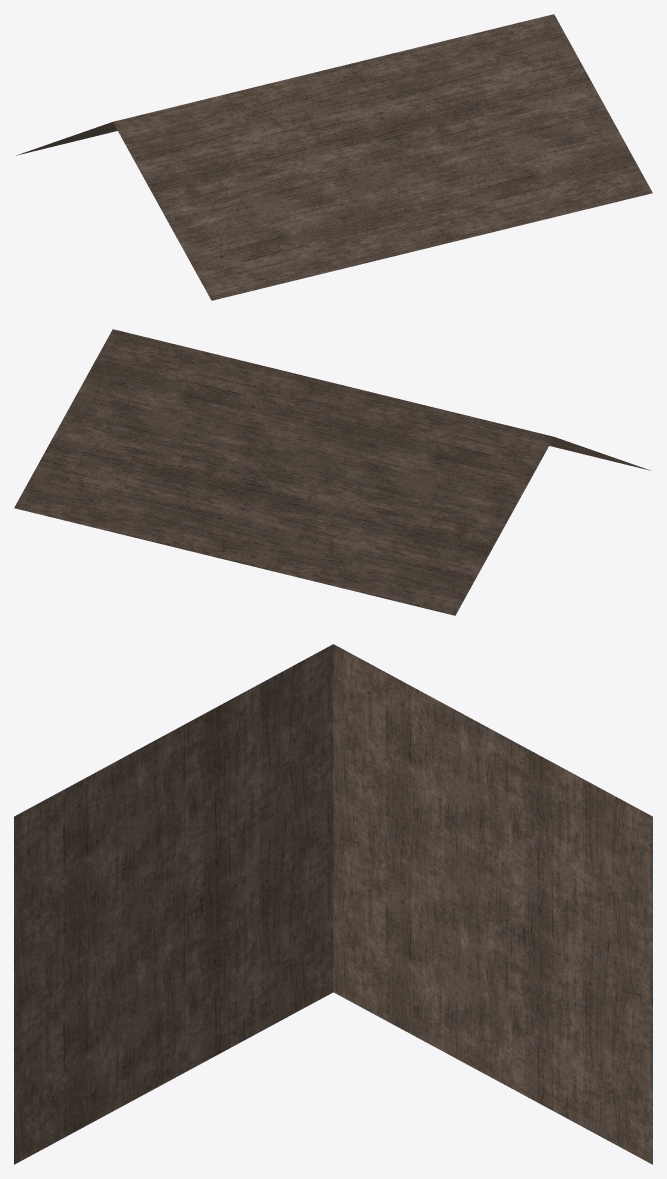
Rendered from Roof_A_001.fbx.
The picture shows the model from 3 angles, top to bottom: view 1: azimuth 30°, elevation 25°; view 2: azimuth 150°, elevation 25°; view 3: azimuth 270°, elevation 25°; orthographic projection. The views are drawn at different scales.
Visible parts, largest first — view 1: Roof_A_001; view 2: Roof_A_001; view 3: Roof_A_001.
Part boxes in pixels (x1,y1,x2,y2): Roof_A_001: (16,14,652,300); Roof_A_001: (14,329,650,615); Roof_A_001: (14,644,652,1164).
Bounding box in the file's own units: 2218 × 513 × 1720.
1 material, 1 textured.
